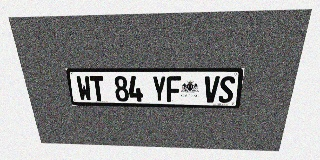4: (128, 76, 143, 102)
8: (114, 76, 129, 101)
F: (167, 76, 181, 102)
S: (218, 76, 235, 103)
T: (89, 76, 106, 101)
V: (203, 76, 220, 103)
W: (76, 76, 92, 101)
Y: (152, 76, 166, 102)
